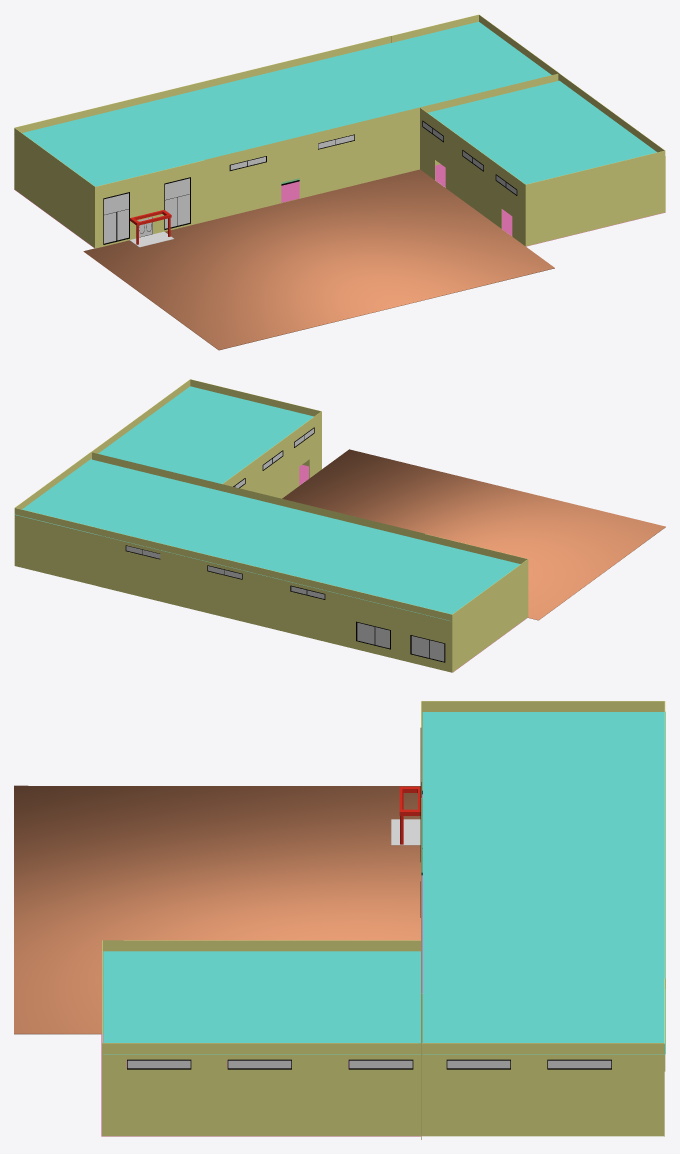
Rendered from Factory.fbx.
The picture shows the model from 3 angles, top to bottom: view 1: azimuth 30°, elevation 25°; view 2: azimuth 150°, elevation 25°; view 3: azimuth 270°, elevation 25°; orthographic projection. The views are drawn at different scales.
Parts seen in each view (by area): view 1: Floor.001, Roof, Wall, Roof.001, Wall.005, Wall.004, Wall.009, Wall.002, Wall.001, Window.021, Window.015, Wall.006 (+3 smaller); view 2: Roof, Floor.001, Wall.001, Roof.001, Wall.010, Wall.009, Wall.004, Wall, Wall.005, Wall.002, Wall.006, Window.020 (+2 smaller); view 3: Roof, Floor.001, Roof.001, Wall.006, Wall.007, Wall.004, Wall.009.
Boxes of the visible parts, <box> form: Floor.001: <box>83,169,554,350</box>; Roof: <box>22,21,551,186</box>; Wall: <box>205,73,558,221</box>; Roof.001: <box>428,80,656,184</box>; Wall.005: <box>526,150,664,246</box>; Wall.004: <box>420,107,525,246</box>; Wall.009: <box>14,128,95,247</box>; Wall.002: <box>95,160,205,248</box>; Wall.001: <box>14,36,390,132</box>; Window.021: <box>104,193,128,243</box>; Window.015: <box>165,178,189,228</box>; Wall.006: <box>559,73,665,212</box>; Roof: <box>14,459,520,620</box>; Floor.001: <box>282,449,665,620</box>; Wall.001: <box>97,528,452,672</box>; Roof.001: <box>91,386,313,483</box>; Wall.010: <box>14,508,97,585</box>; Wall.009: <box>452,559,528,671</box>; Wall.004: <box>222,411,321,498</box>; Wall: <box>92,452,424,540</box>; Wall.005: <box>190,379,321,466</box>; Wall.002: <box>424,534,527,563</box>; Wall.006: <box>91,379,190,459</box>; Window.020: <box>411,636,444,661</box>; Roof: <box>422,711,665,1054</box>; Floor.001: <box>14,785,420,1034</box>; Roof.001: <box>103,951,420,1054</box>; Wall.006: <box>102,1043,420,1136</box>; Wall.007: <box>421,1043,663,1136</box>; Wall.004: <box>102,940,420,1033</box>; Wall.009: <box>421,701,664,794</box>.
Size of the model in its own units: 16952 by 2207 by 13313.
